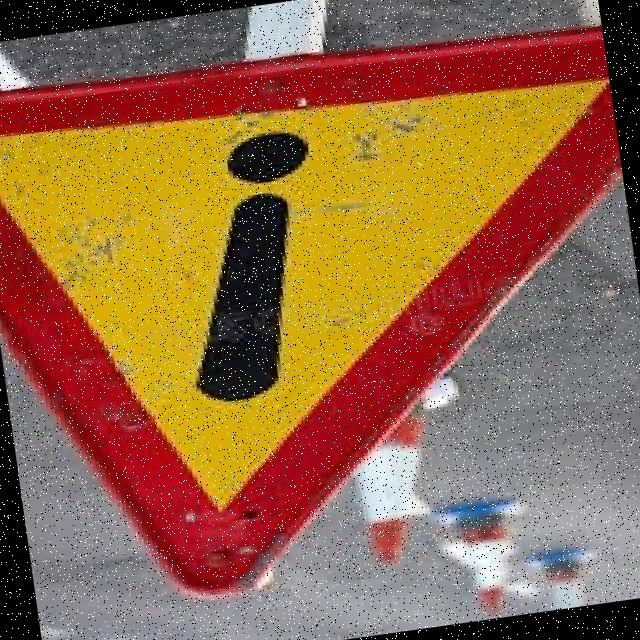warning: (0, 0, 640, 625)
